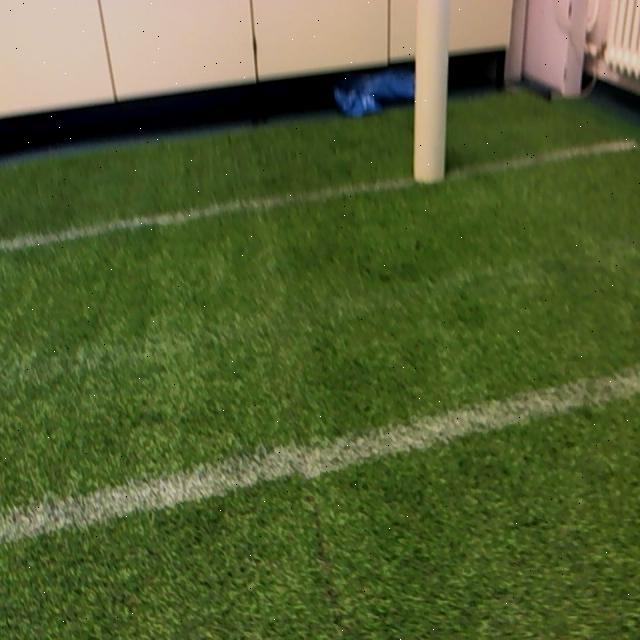goalpost: (414, 2, 451, 180)
